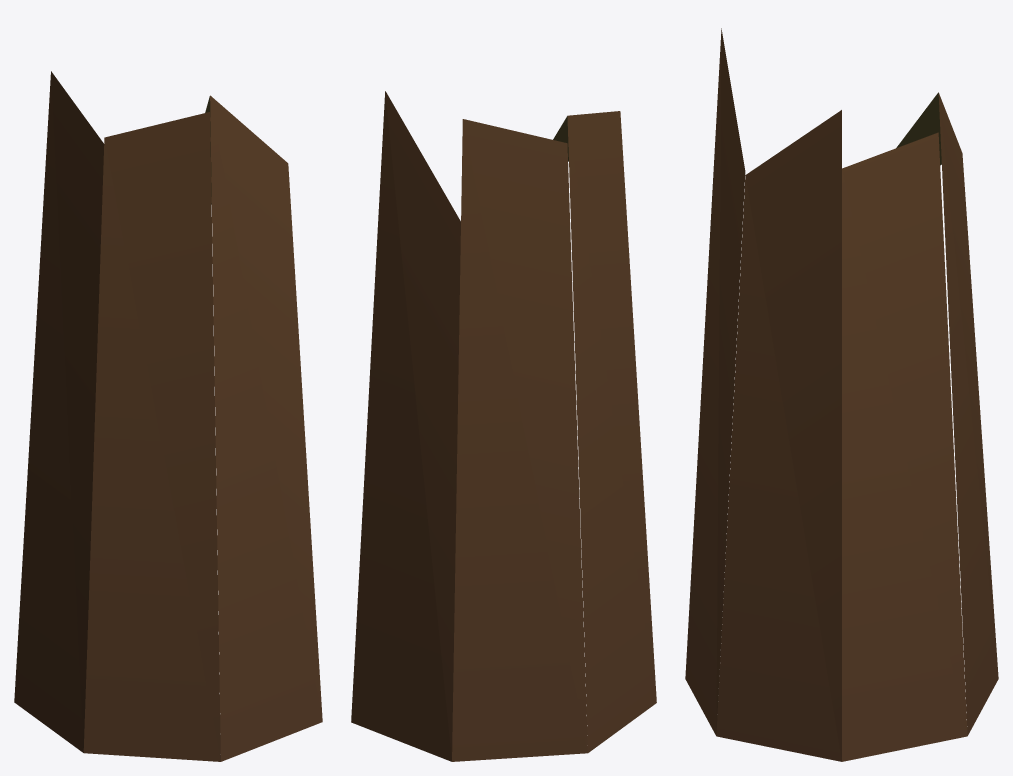
3 renders of one model, left to right at view 1: azimuth 30°, elevation 25°; view 2: azimuth 150°, elevation 25°; view 3: azimuth 270°, elevation 25°, orthographic.
Visible parts, largest first — view 1: prop_pine_stump; view 2: prop_pine_stump; view 3: prop_pine_stump.
Part boxes in pixels (x1,y1,x2,y2): prop_pine_stump: [14, 71, 322, 761]; prop_pine_stump: [351, 91, 656, 761]; prop_pine_stump: [685, 28, 998, 761].
Size of the model in its own units: 0.7141 by 1.69 by 0.7326.
